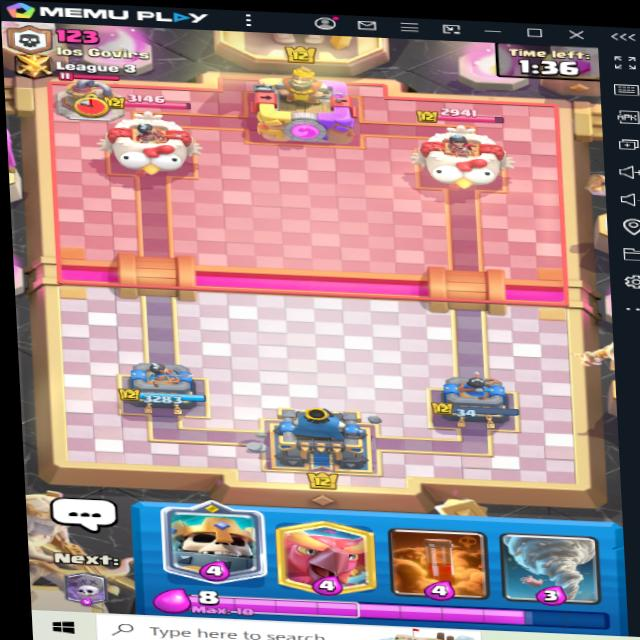Pump: (59, 75, 129, 123)
